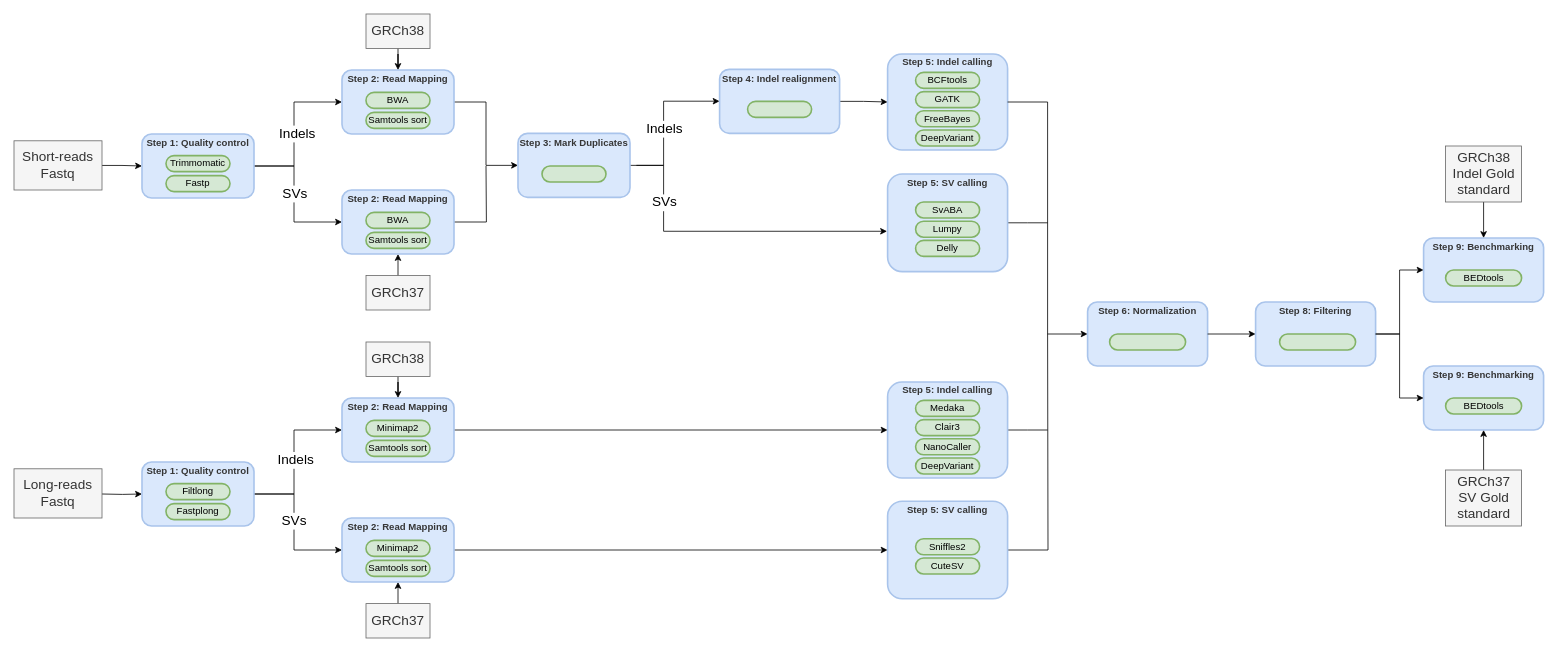
The diagram is 1558 pixels wide and 652 high, and some of its shapes have lost their labels. The shapes that lost their labels are listed below. From the top down, each one's centre as x and y in pixels, then its label:
At point 779,109: "ABRA".
At point 573,173: "Sambamba".
At point 1147,341: "BCFtools norm".
At point 1317,341: "BCFtools filt".
